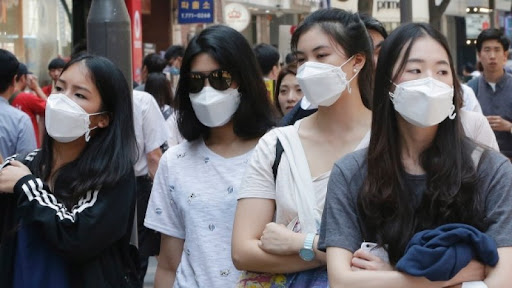with_mask: (397, 57, 452, 119), (188, 70, 237, 124), (53, 83, 92, 137), (297, 50, 340, 97)
without_mask: (279, 82, 302, 112)
